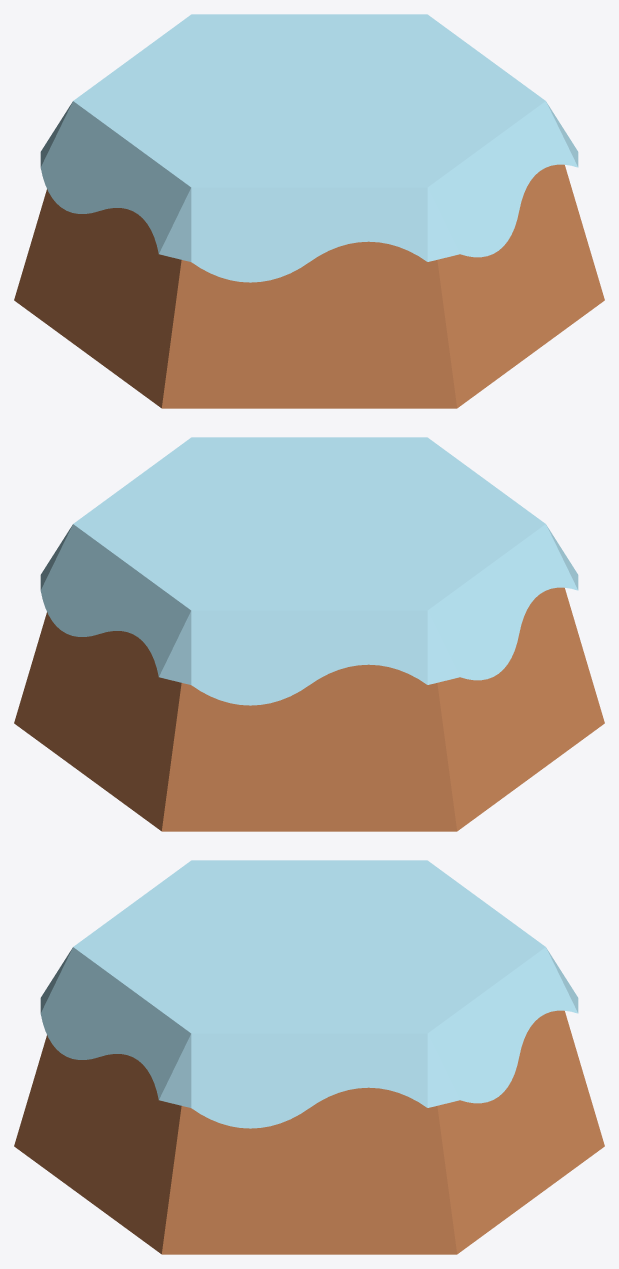
File: blockSnowHexagonLow.dae
3 views of the same model, one above another, from view 1: azimuth 30°, elevation 25°; view 2: azimuth 150°, elevation 25°; view 3: azimuth 270°, elevation 25° (orthographic).
Visible parts, largest first — view 1: blockSnowHexagonLow; view 2: blockSnowHexagonLow; view 3: blockSnowHexagonLow.
Part boxes in pixels (x1,y1,x2,y2): blockSnowHexagonLow: (14, 14, 604, 408); blockSnowHexagonLow: (14, 437, 604, 831); blockSnowHexagonLow: (14, 860, 604, 1254).
Size of the model in its own units: 1 by 0.4298 by 1.15.
